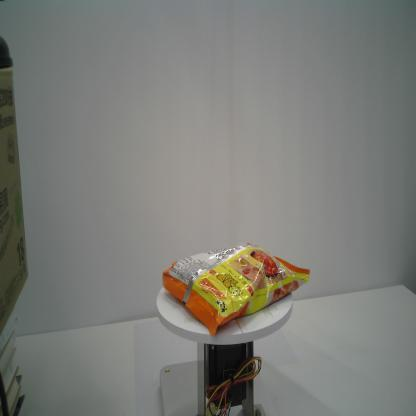Instant Noodles: (162, 241, 310, 341)
